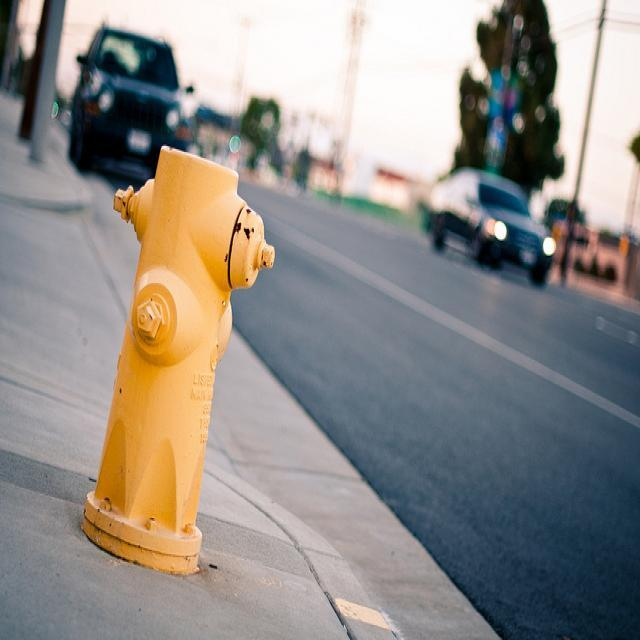fire_hydrant: (79, 144, 278, 574)
